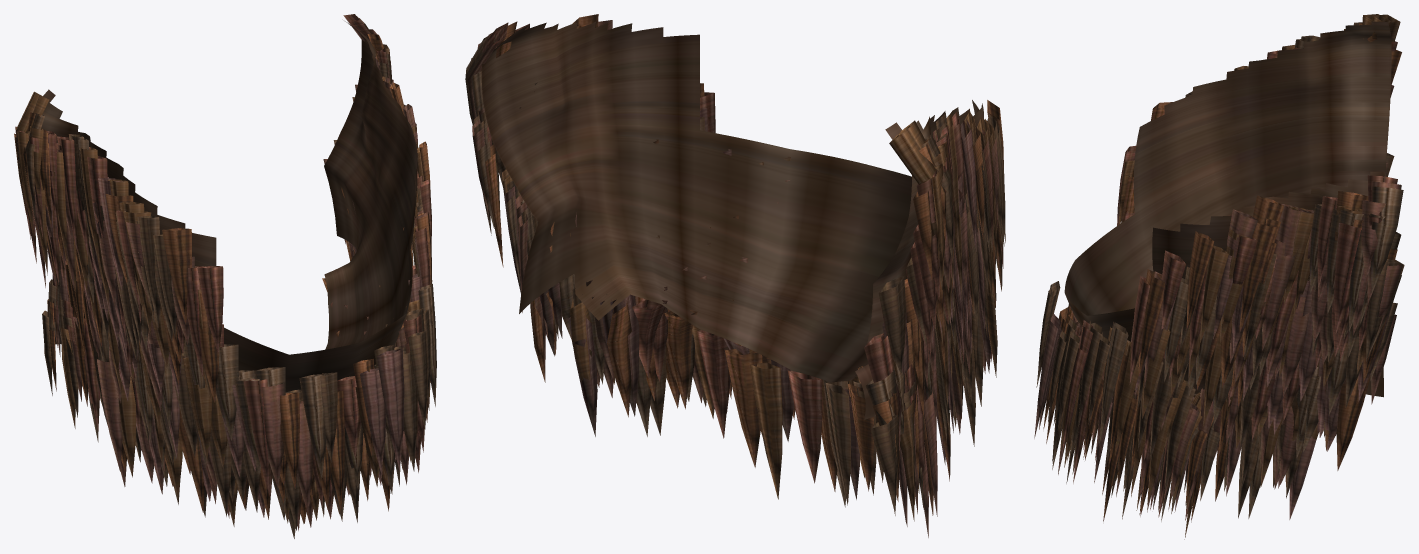
Rendered from cheia_sem.glb.
3 renders of one model, left to right at view 1: azimuth 30°, elevation 25°; view 2: azimuth 150°, elevation 25°; view 3: azimuth 270°, elevation 25°, orthographic. The views are drawn at different scales.
Parts seen in each view (by area): view 1: barba_cheia_sem; view 2: barba_cheia_sem; view 3: barba_cheia_sem.
Part boxes in pixels (x1,y1,x2,y2): barba_cheia_sem: (14,14,436,538); barba_cheia_sem: (465,14,1005,537); barba_cheia_sem: (1034,14,1404,539).
Size of the model in its own units: 0.2031 by 0.2181 by 0.1693.
1 material, 1 textured.
